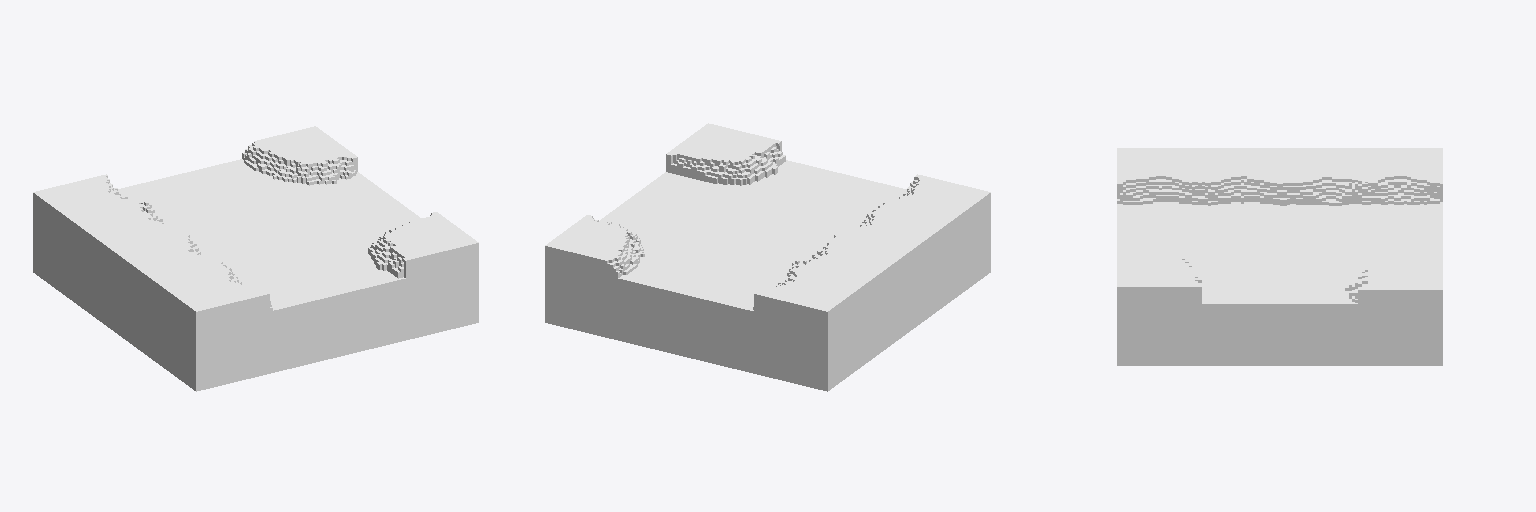
Rendered from Ground_Path_TShape.obj.
The picture shows the model from 3 angles: view 1: azimuth 30°, elevation 25°; view 2: azimuth 150°, elevation 25°; view 3: azimuth 270°, elevation 25°; orthographic projection.
Parts seen in each view (by area): view 1: Ground_Path_TShape; view 2: Ground_Path_TShape; view 3: Ground_Path_TShape.
Part boxes in pixels (x1,y1,x2,y2): Ground_Path_TShape: (33, 126, 478, 391); Ground_Path_TShape: (545, 123, 990, 391); Ground_Path_TShape: (1117, 148, 1442, 365).
Size of the model in its own units: 100 by 28 by 100.